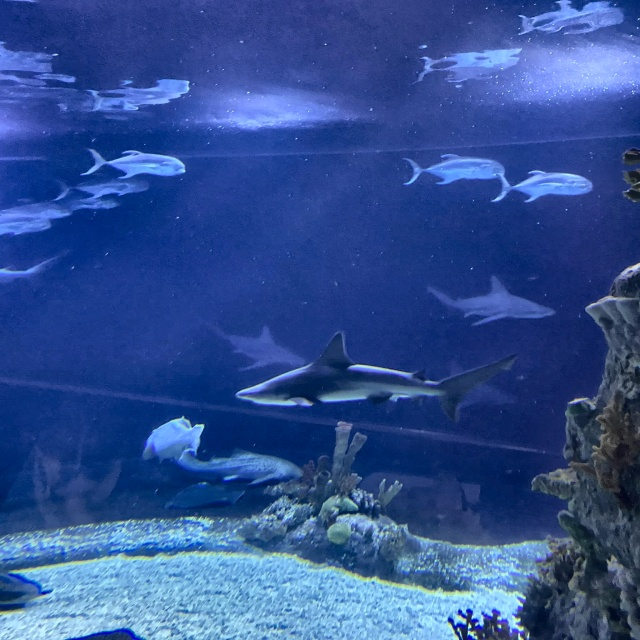fish: (177, 448, 306, 488), (79, 148, 186, 179), (492, 170, 592, 202), (402, 154, 505, 185), (143, 416, 203, 464), (49, 174, 148, 202)
shark: (237, 329, 524, 425), (423, 274, 554, 326), (0, 251, 64, 290)
